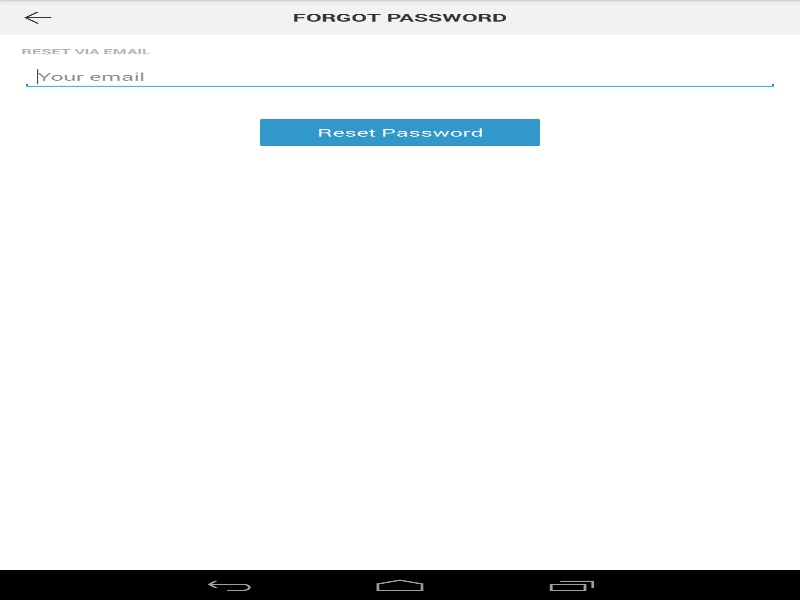Button: (260, 118, 540, 146), (0, 0, 74, 35)
Input: (21, 56, 778, 88)
